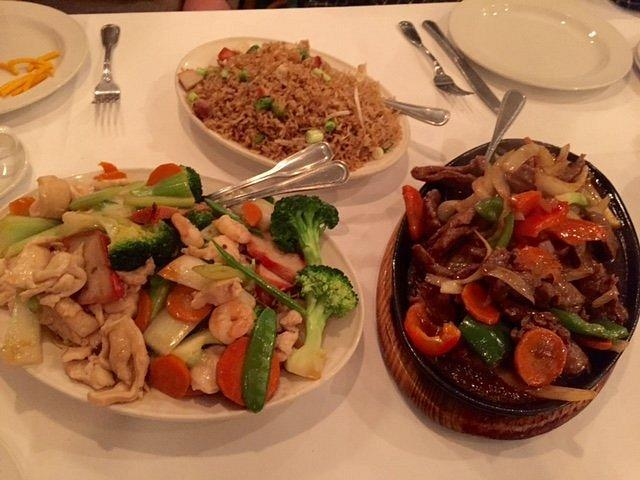Braised Crucian Carp: (2, 165, 361, 416), (379, 144, 639, 435), (173, 36, 407, 179)
